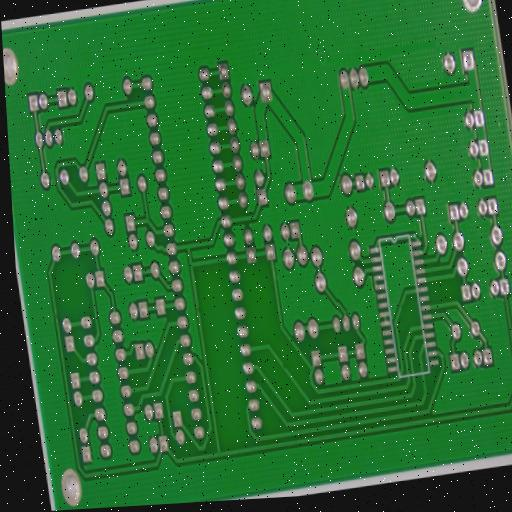mouse_bite: (280, 360, 290, 375), (399, 300, 407, 313), (194, 303, 202, 315)
